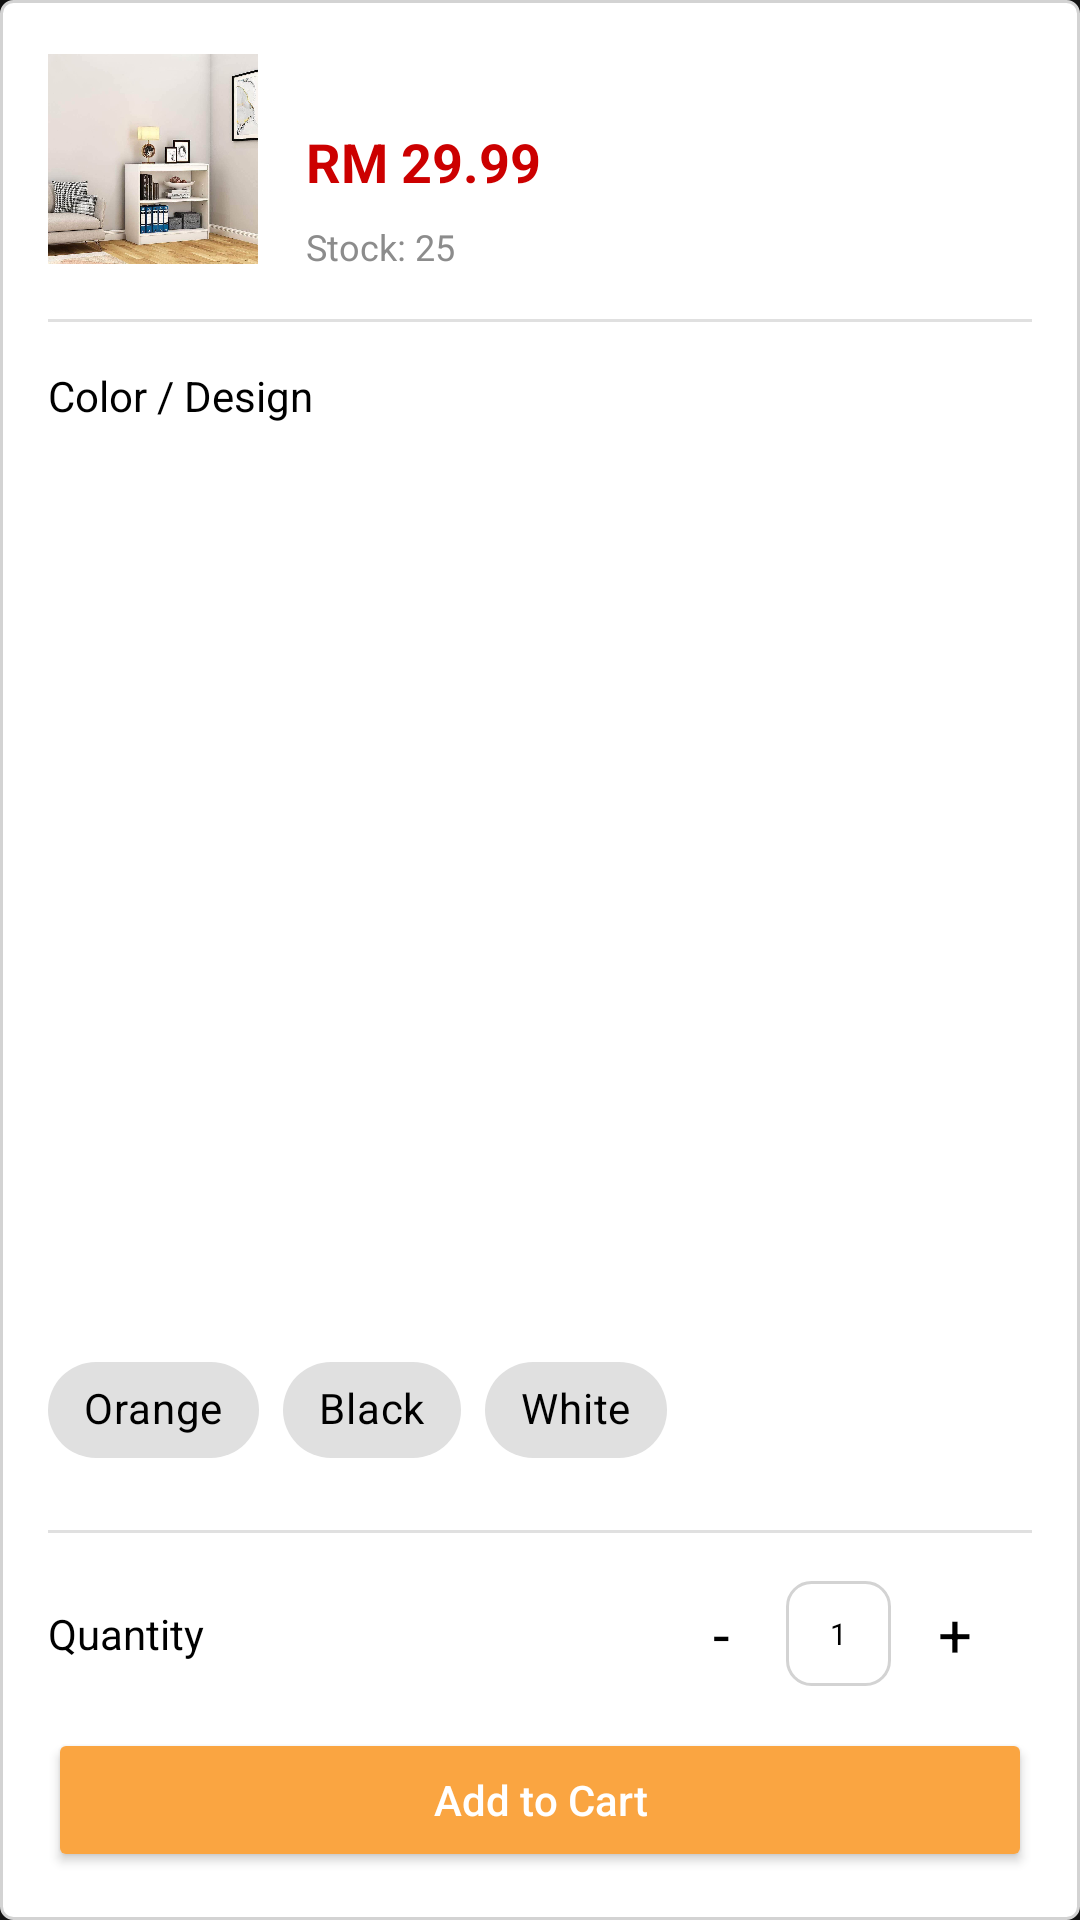

Where to tap for icons on this 1080 x 1920 app screen, as (x,y):
product: (153,159)
